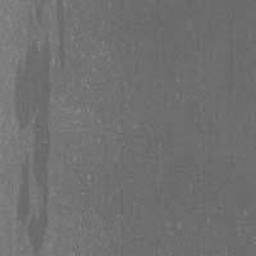Oil spot: (13, 0, 68, 256)
